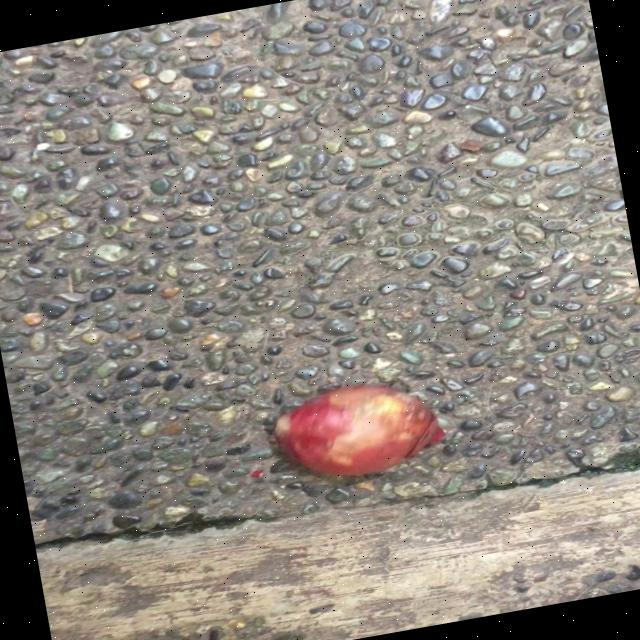Onion: (274, 385, 444, 476)
